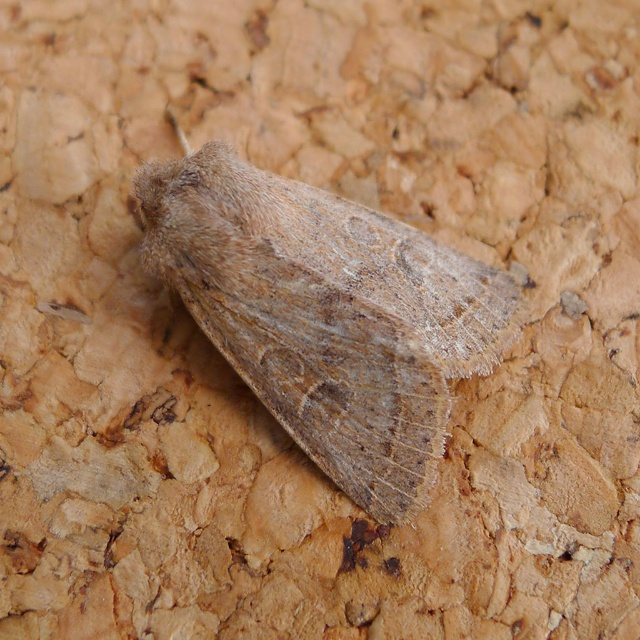Moths and butterflies: (125, 143, 518, 530)
